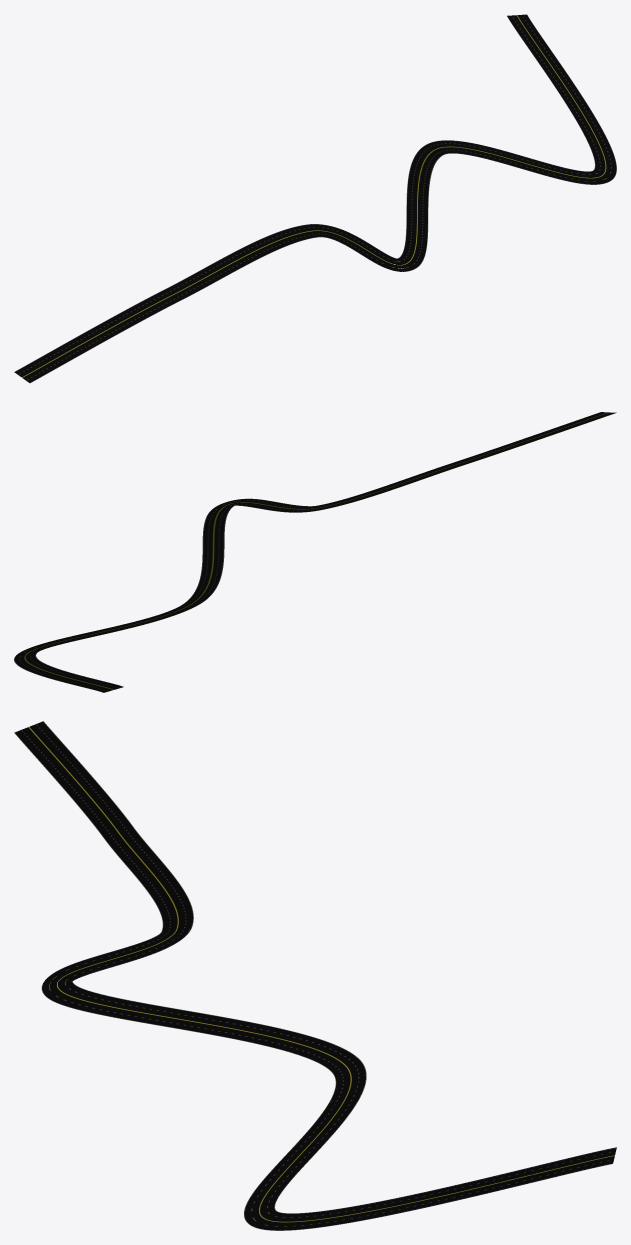
File: road.glb
3 renders of one model, top to bottom at view 1: azimuth 30°, elevation 25°; view 2: azimuth 210°, elevation 25°; view 3: azimuth 270°, elevation 25°, orthographic. The views are drawn at different scales.
Visible parts, largest first — view 1: Markers5, Markers0, Markers3, Markers1, Markers4, Markers2; view 2: Markers3, Markers5, Markers4, Markers0, Markers1, Markers2; view 3: Markers3, Markers5, Markers4, Markers0, Markers1, Markers2.
Boxes of the visible parts, x1,y1,x2,y2 form: Markers5: (507,14,616,176); Markers0: (14,289,180,383); Markers3: (399,144,443,267); Markers1: (165,224,314,300); Markers4: (427,140,614,184); Markers2: (307,224,416,271); Markers3: (187,507,231,601); Markers5: (14,653,123,692); Markers4: (16,601,203,655); Markers0: (451,412,616,464); Markers1: (316,463,464,509); Markers2: (214,498,322,512); Markers3: (47,984,359,1071); Markers5: (256,1147,616,1230); Markers4: (244,1059,366,1227); Markers0: (14,721,132,837); Markers1: (103,826,193,931); Markers2: (41,926,191,997).
Size of the model in its own units: 729 by 63.98 by 373.
2 materials, 2 textured.
